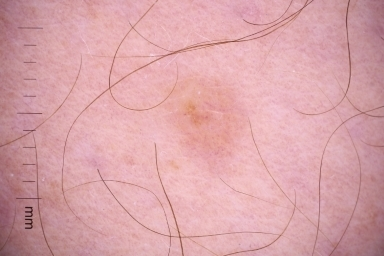nevus: (167, 76, 247, 168)
